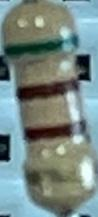Brown: (16, 77, 82, 105), (22, 118, 87, 144)
Green: (2, 34, 79, 60)
Side-Silver: (27, 158, 97, 187)
